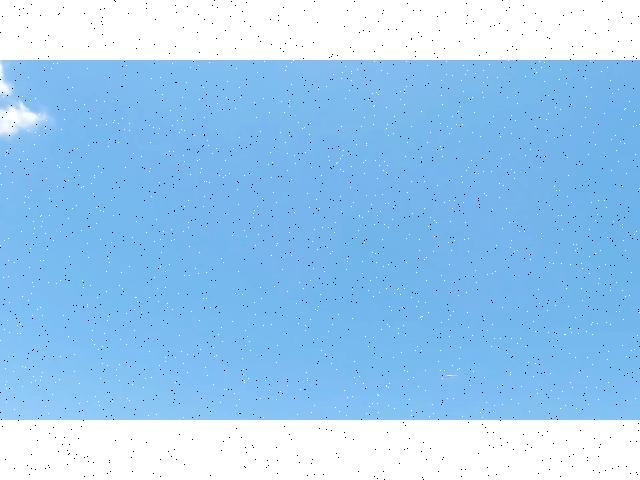Anti-Drone: (434, 368, 466, 383)
